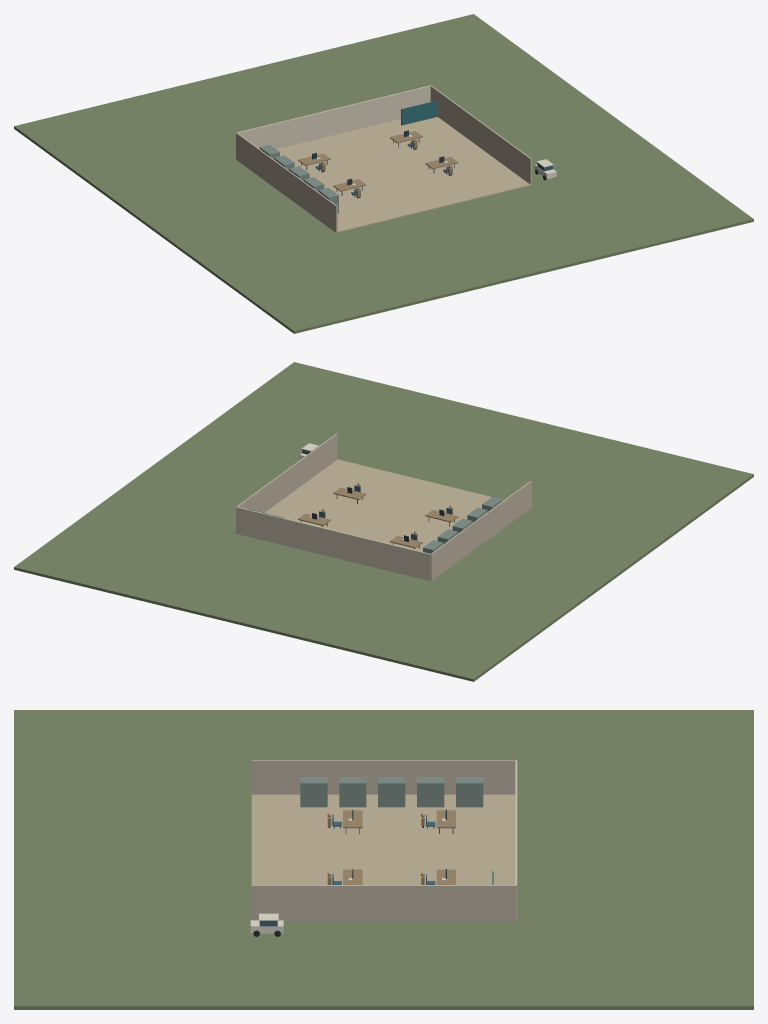
The model's file is test-place.glb.
3 views of the same model, one above another, from view 1: azimuth 30°, elevation 25°; view 2: azimuth 150°, elevation 25°; view 3: azimuth 270°, elevation 25° (orthographic). The views are drawn at different scales.
Visible parts, largest first — view 1: Police chowki; view 2: Police chowki; view 3: Police chowki.
Part boxes in pixels (<box>): Police chowki: <box>14,14,753,333</box>; Police chowki: <box>14,362,753,681</box>; Police chowki: <box>14,710,753,1009</box>.
Size of the model in its own units: 90 by 5.5 by 95.
